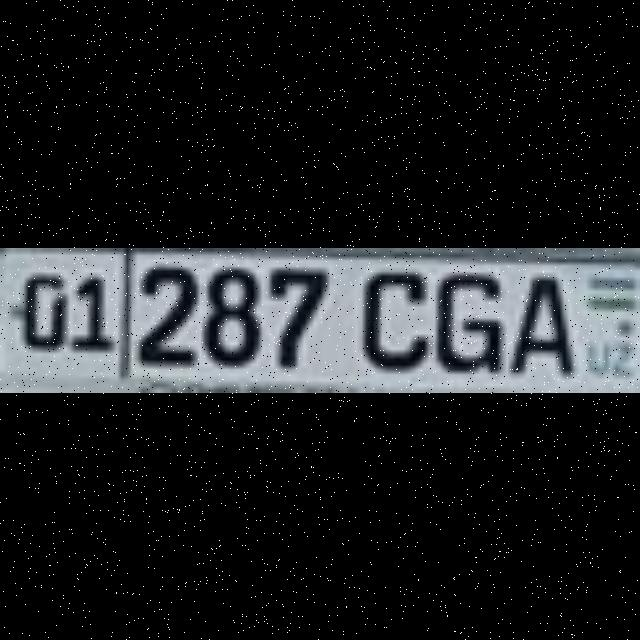0: (15, 262, 62, 346)
1: (67, 268, 109, 346)
2: (130, 252, 192, 356)
7: (266, 258, 322, 356)
8: (198, 258, 255, 356)
A: (505, 268, 567, 366)
C: (359, 262, 421, 362)
G: (432, 263, 500, 367)
